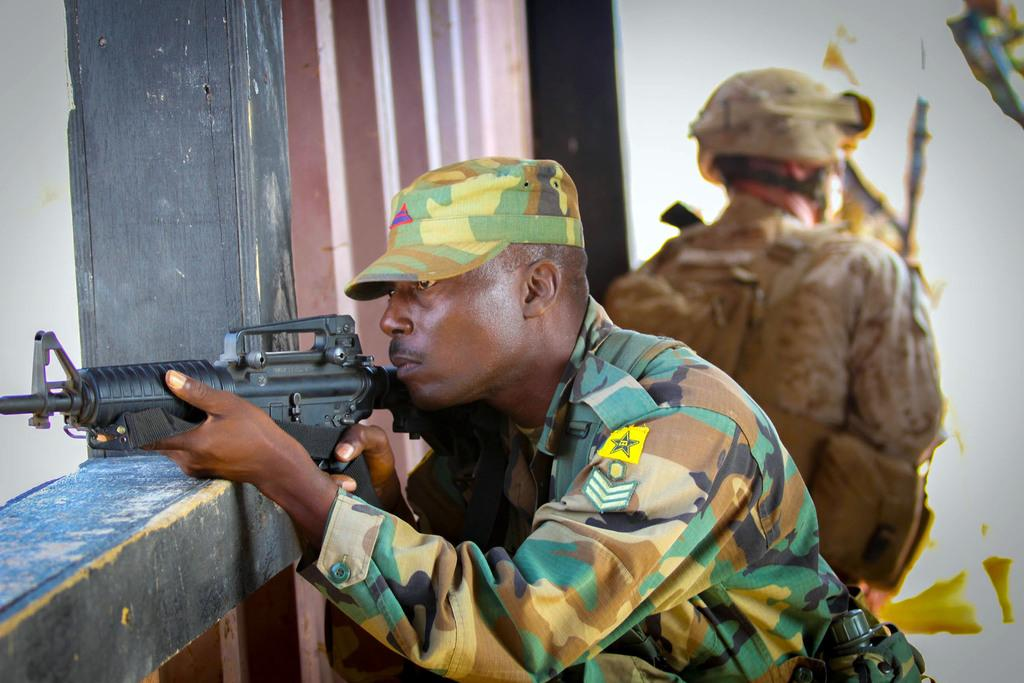Rifle: (8, 316, 469, 516)
